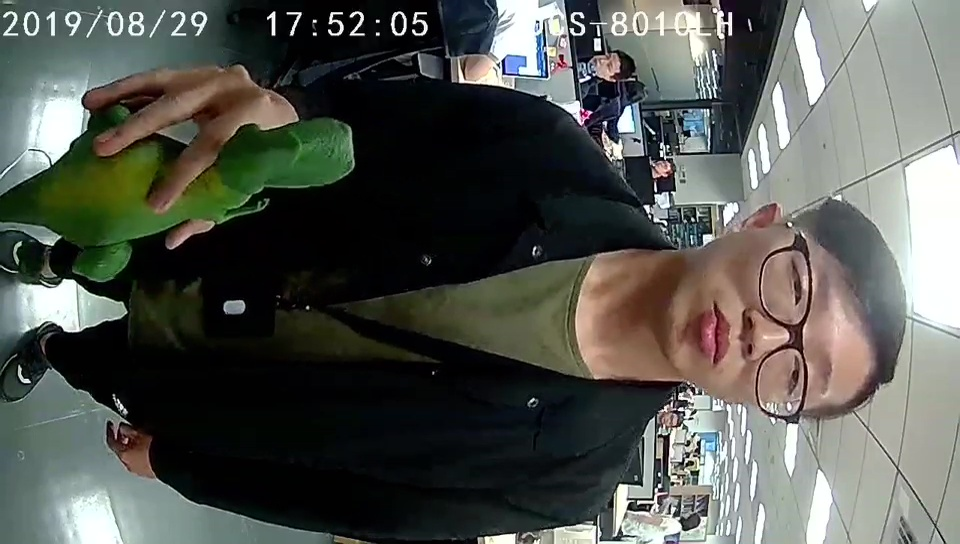rex: (19, 102, 357, 282)
